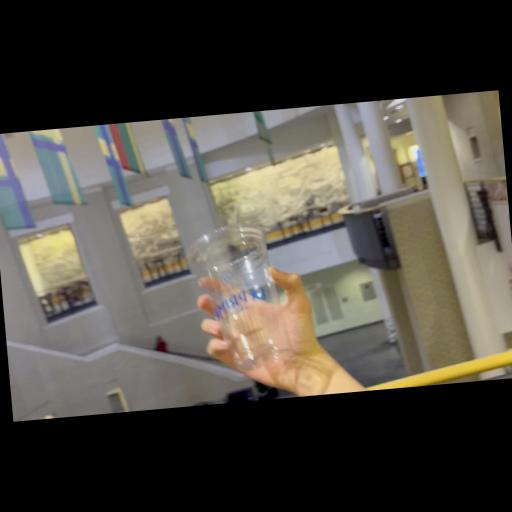lp_plastic_cup: (189, 224, 284, 376)
